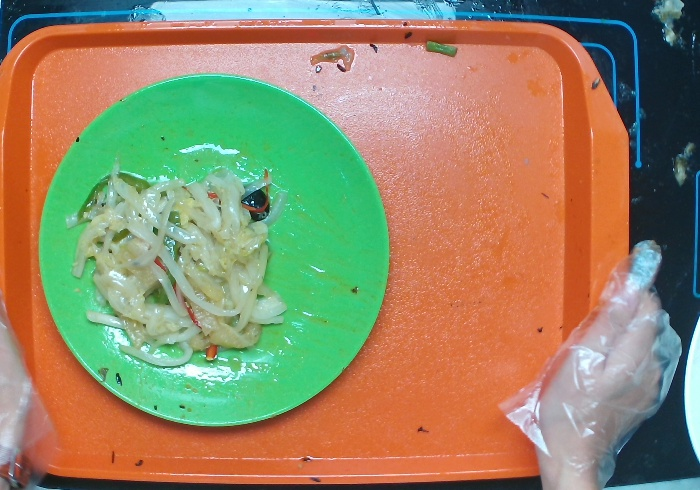HZYJPL-Lv_Se_Yuan_Pan: (29, 74, 393, 432)
